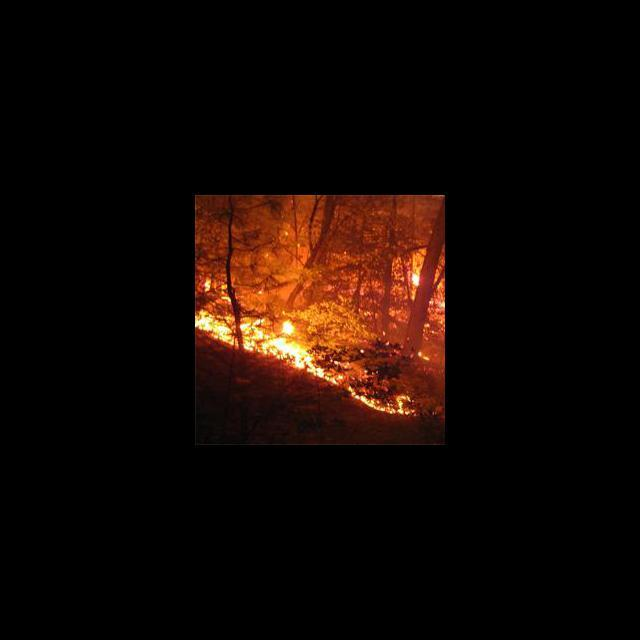Fire: (196, 269, 436, 422)
